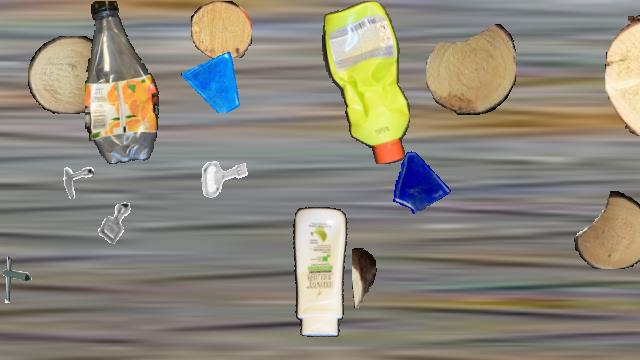glass: (387, 148, 453, 214), (181, 50, 243, 112)
metal: (193, 148, 253, 208), (87, 195, 143, 251), (0, 253, 40, 305), (52, 156, 94, 198)
plastic: (321, 1, 411, 163), (85, 1, 161, 163), (286, 207, 350, 337)
wood: (426, 23, 516, 115), (28, 36, 110, 114), (574, 191, 640, 269), (605, 14, 640, 140), (191, 1, 251, 59), (352, 248, 376, 308)
